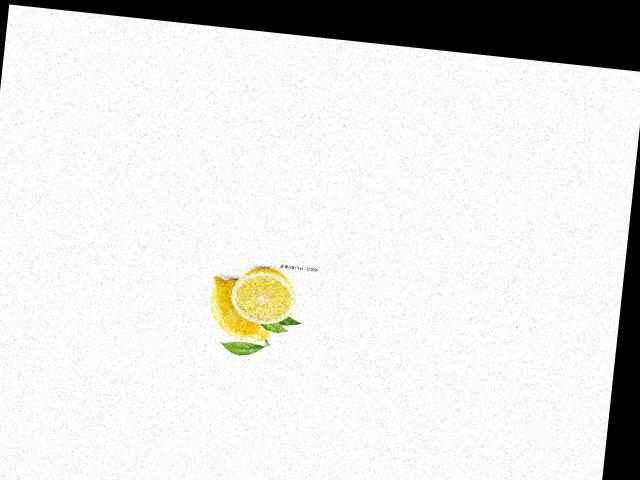lemon: (195, 272, 280, 346)
